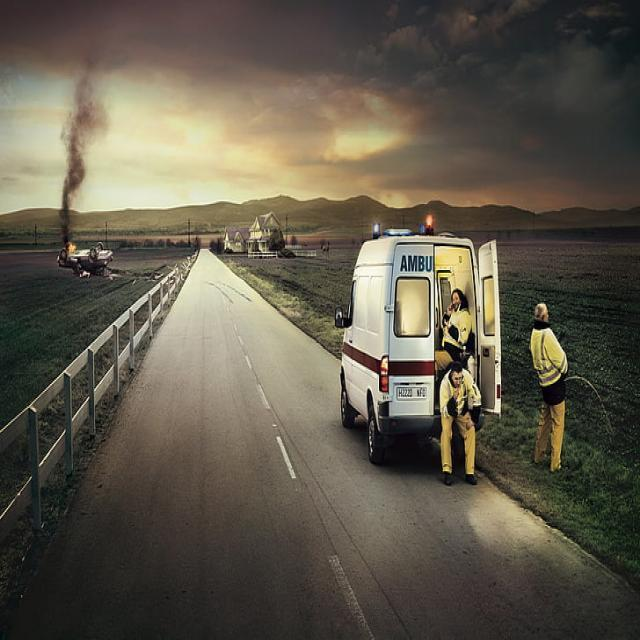emergency-vehicle: (320, 224, 504, 476)
